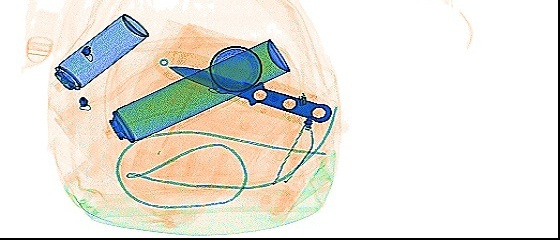knife: (166, 62, 333, 124)
pressure: (99, 36, 290, 144), (51, 10, 150, 93)
